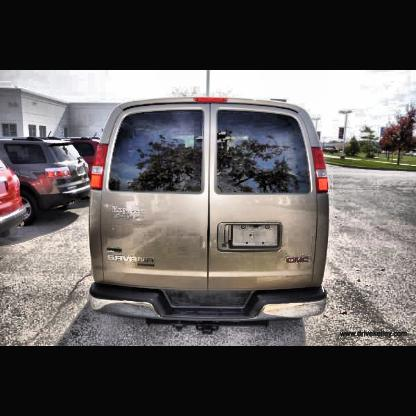GMC Savana Van 2012: (92, 98, 331, 336)
